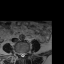CCS_stenosis: (22, 51, 23, 59)
LFS_normal: (25, 50, 27, 56)
LLS_normal: (23, 51, 25, 57)
RFS_normal: (17, 50, 19, 57)
RLS_normal: (19, 51, 22, 57)
